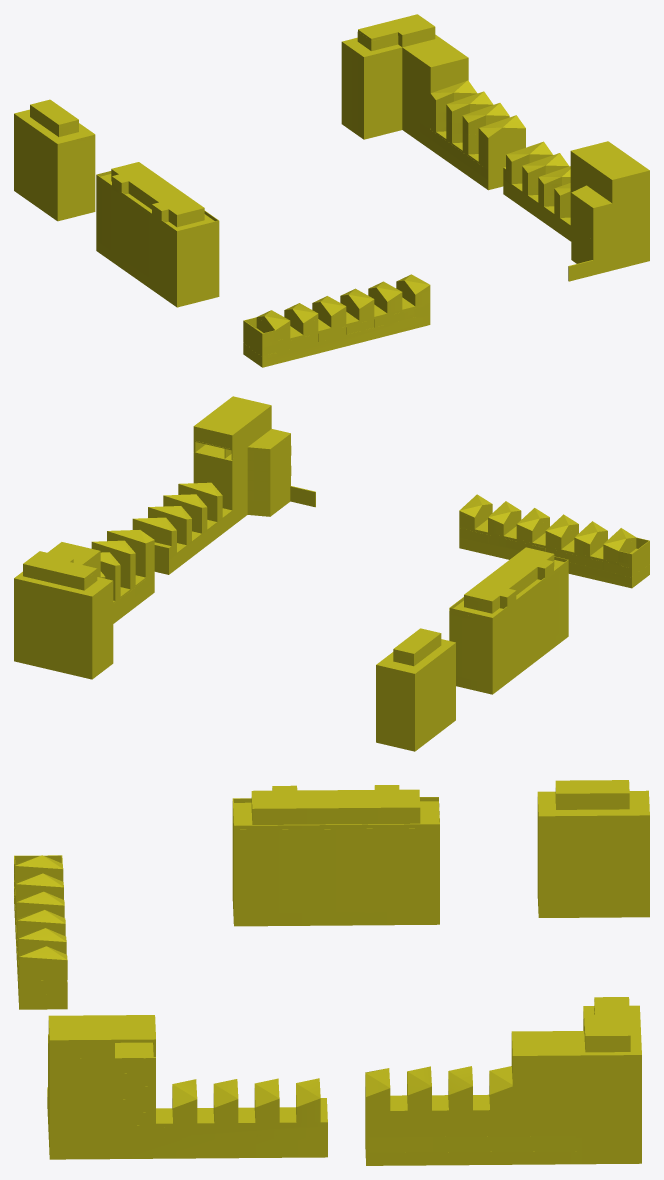
File: PAM_Tammela252_uudetrak.fbx
3 renders of one model, top to bottom at view 1: azimuth 30°, elevation 25°; view 2: azimuth 150°, elevation 25°; view 3: azimuth 270°, elevation 25°, orthographic. The views are drawn at different scales.
Visible parts, largest first — view 1: PAM_Tammela252_uudetrak_LOD0; view 2: PAM_Tammela252_uudetrak_LOD0; view 3: PAM_Tammela252_uudetrak_LOD0.
Part boxes in pixels (<box>): PAM_Tammela252_uudetrak_LOD0: <box>14,14,649,367</box>; PAM_Tammela252_uudetrak_LOD0: <box>14,396,649,751</box>; PAM_Tammela252_uudetrak_LOD0: <box>14,780,649,1165</box>.
Bounding box in the file's own units: 128 × 29.92 × 131.
